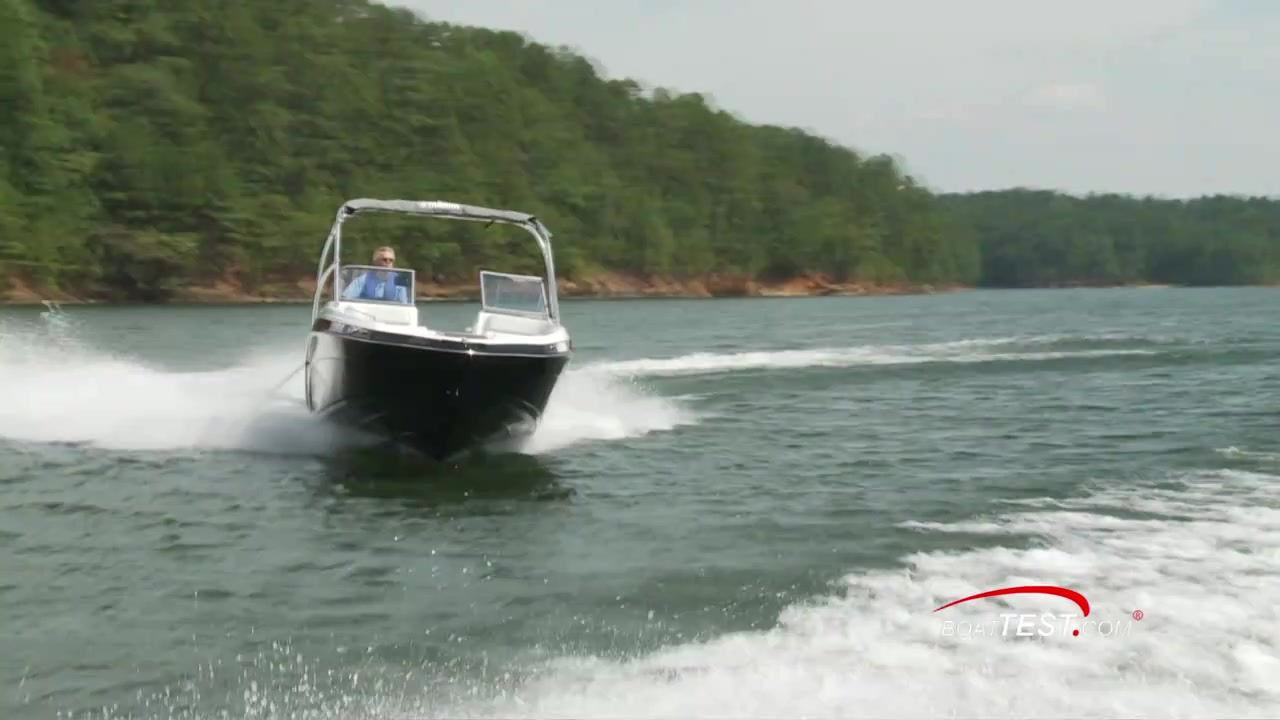boat: (295, 196, 574, 454)
